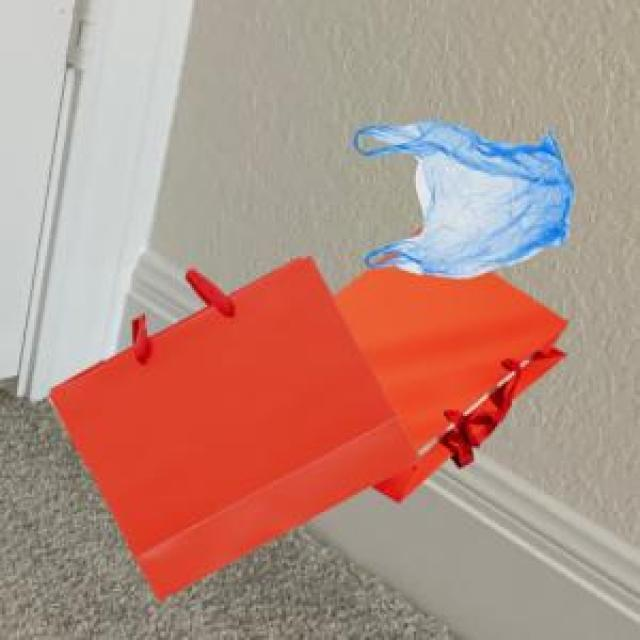paper: (45, 252, 416, 595), (329, 250, 563, 497)
